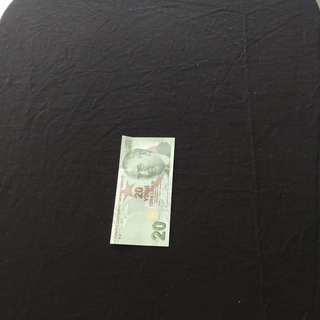20TLFront: (109, 135, 175, 247)
